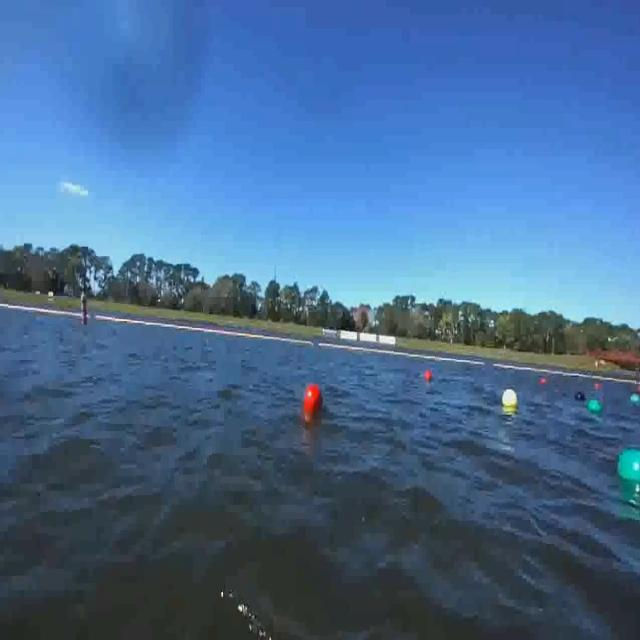black-buoy: (574, 390, 584, 402)
green-buoy: (617, 448, 640, 484), (585, 401, 599, 417), (630, 393, 640, 406)
red-buoy: (305, 384, 327, 416), (425, 369, 433, 380)
yellow-buoy: (501, 387, 518, 406)
